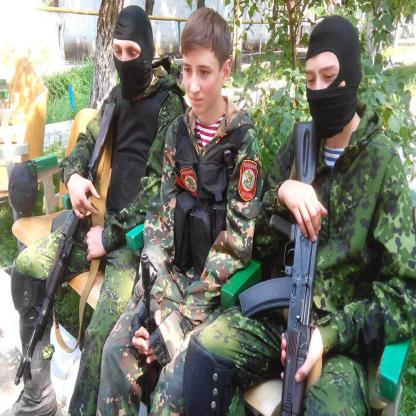rifle: (12, 100, 120, 390), (239, 117, 323, 415), (126, 244, 165, 416)
